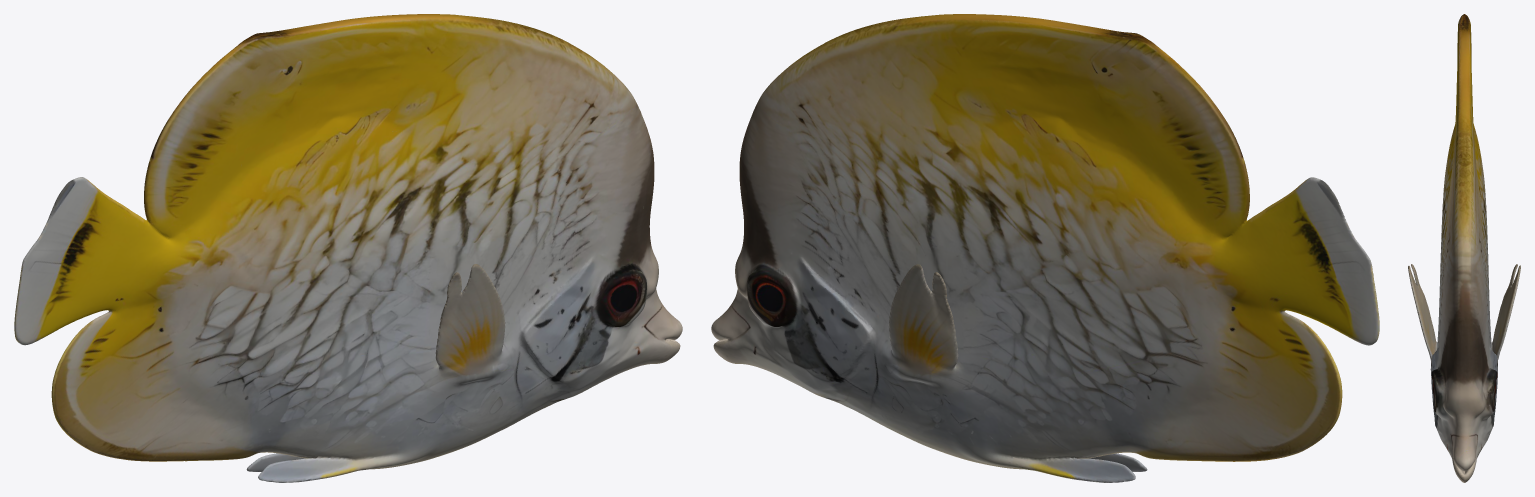
The model's file is trop_butterfly.glb.
3 renders of one model, left to right at view 1: azimuth 30°, elevation 25°; view 2: azimuth 150°, elevation 25°; view 3: azimuth 270°, elevation 25°, orthographic. The views are drawn at different scales.
Parts seen in each view (by area): view 1: tripo_node_59bc1408-9adc-4f8a-8599-61048811c8d2; view 2: tripo_node_59bc1408-9adc-4f8a-8599-61048811c8d2; view 3: tripo_node_59bc1408-9adc-4f8a-8599-61048811c8d2.
Part boxes in pixels (<box>): tripo_node_59bc1408-9adc-4f8a-8599-61048811c8d2: <box>14,14,682,482</box>; tripo_node_59bc1408-9adc-4f8a-8599-61048811c8d2: <box>711,14,1379,482</box>; tripo_node_59bc1408-9adc-4f8a-8599-61048811c8d2: <box>1408,14,1520,482</box>.
Size of the model in its own units: 1 by 0.6662 by 0.1967.
1 material, 1 textured.
